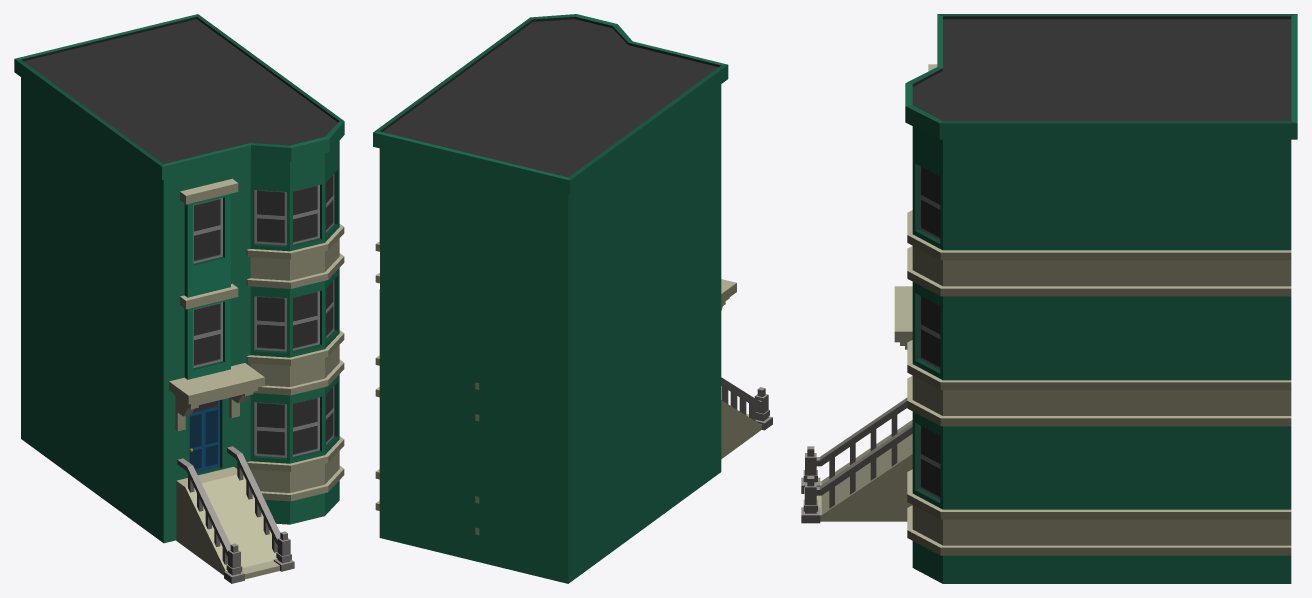
Rendered from SA_Bld_TownHouse_Clean_01.gltf.
3 views of the same model, side by side, from view 1: azimuth 30°, elevation 25°; view 2: azimuth 150°, elevation 25°; view 3: azimuth 270°, elevation 25° (orthographic). The views are drawn at different scales.
Visible parts, largest first — view 1: SA_Bld_TownHouse_Clean_01; view 2: SA_Bld_TownHouse_Clean_01; view 3: SA_Bld_TownHouse_Clean_01.
Boxes of the visible parts, x1=… form: SA_Bld_TownHouse_Clean_01: x1=14, y1=14, x2=344, y2=583; SA_Bld_TownHouse_Clean_01: x1=373, y1=14, x2=772, y2=583; SA_Bld_TownHouse_Clean_01: x1=801, y1=14, x2=1297, y2=583.
Size of the model in its own units: 11.88 by 23.46 by 22.76.
1 material, 1 textured.
